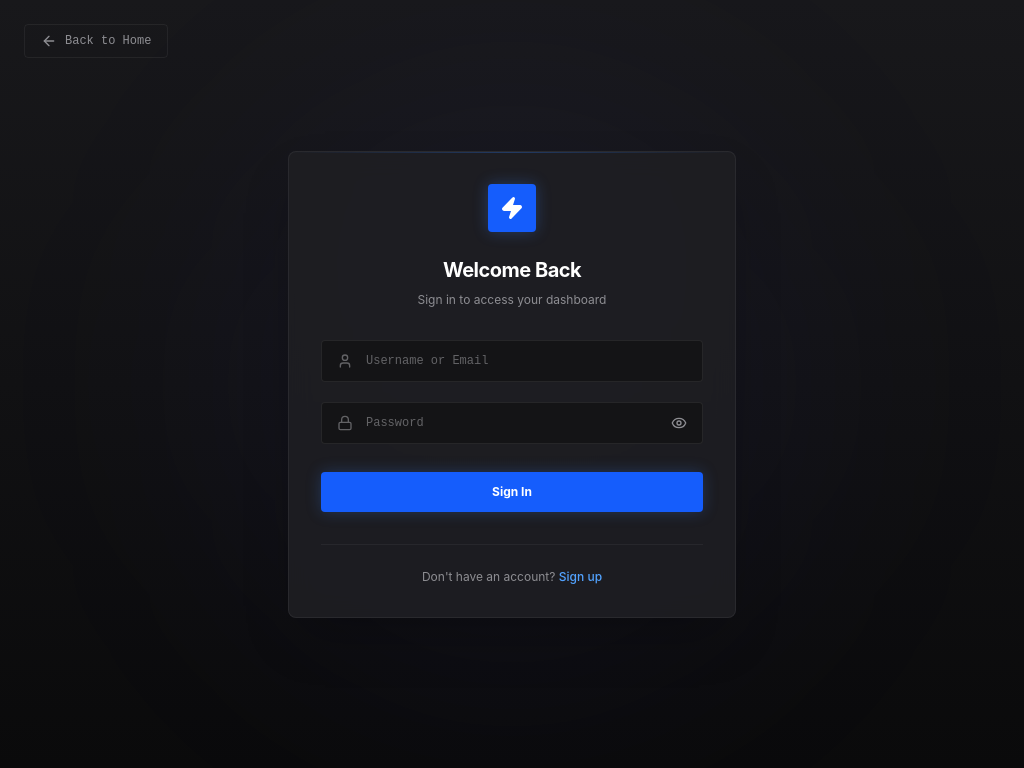
Test: LoginPage dedicated › shows error on failed login
The image size is (1024, 768).
Type "bad" into the field with placeholder "Username or Email" at (512, 360), box [321, 340, 703, 382]
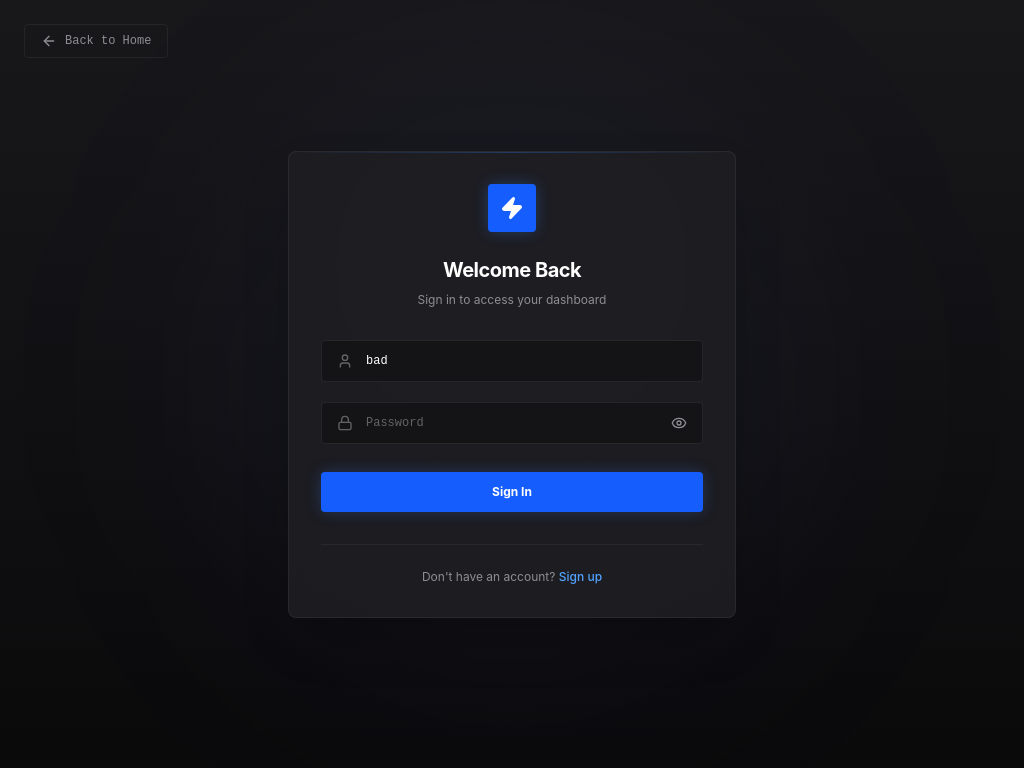
Type "wrong" into the password field with placeholder "Password" at (512, 422), box [321, 402, 703, 444]
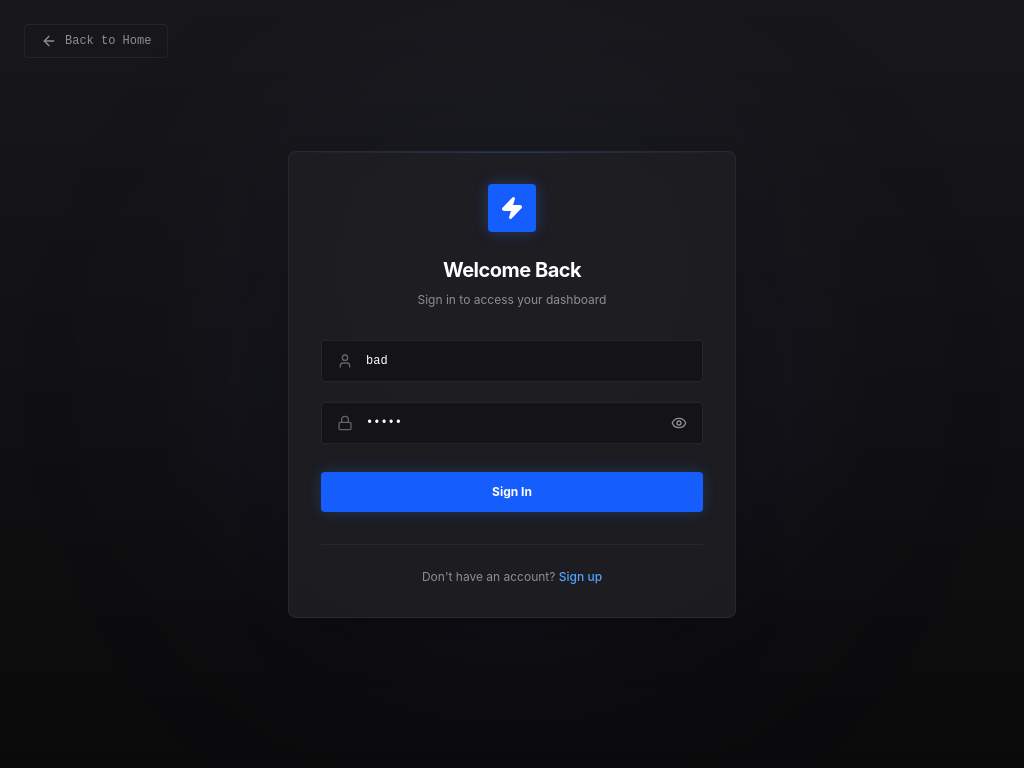
Click the button "Sign In" at (512, 492), box [321, 472, 703, 512]
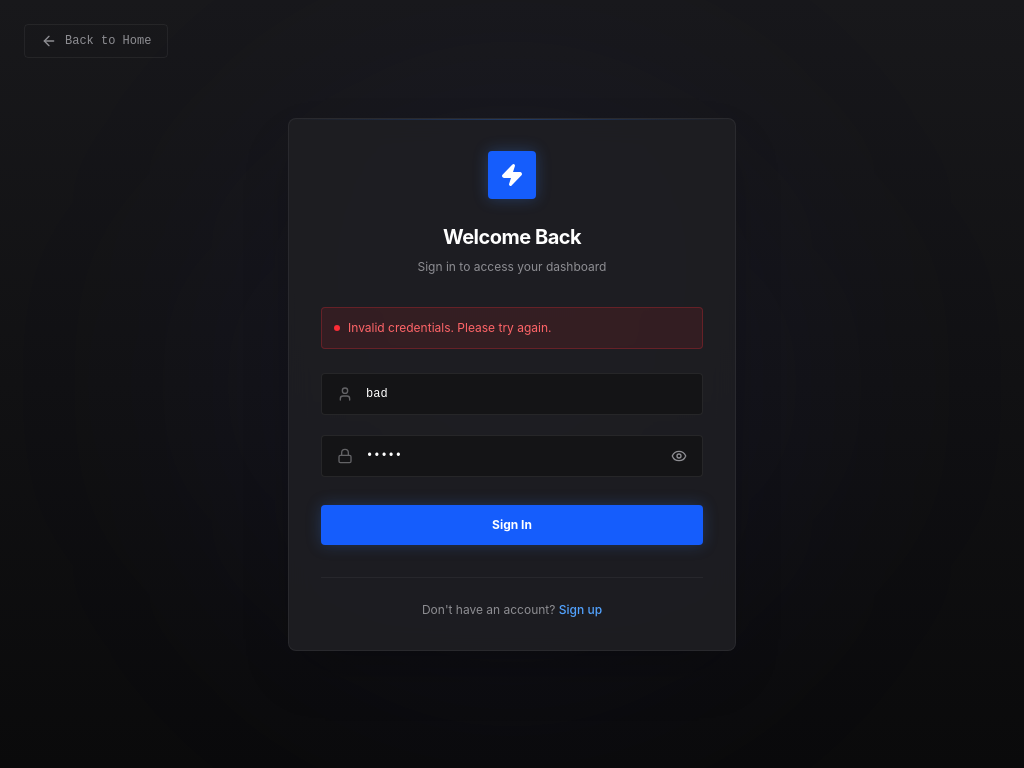
Now the text "Invalid credentials. Please try again." is shown, box [321, 306, 703, 348]
